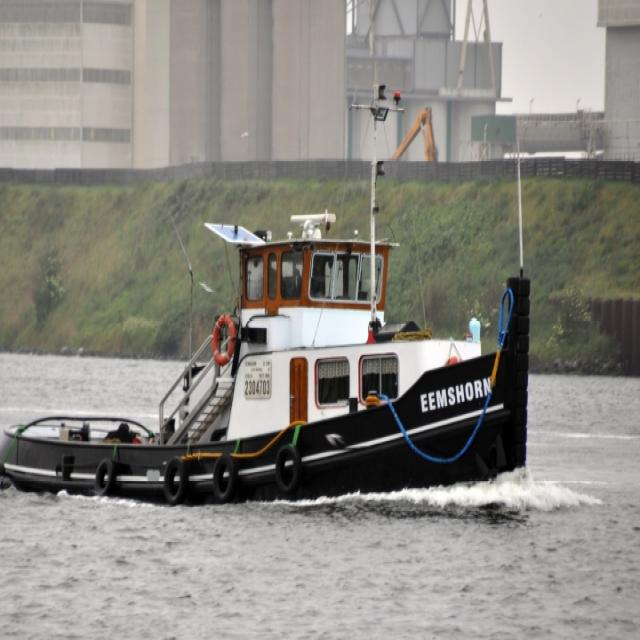tugboat: (1, 52, 538, 532)
